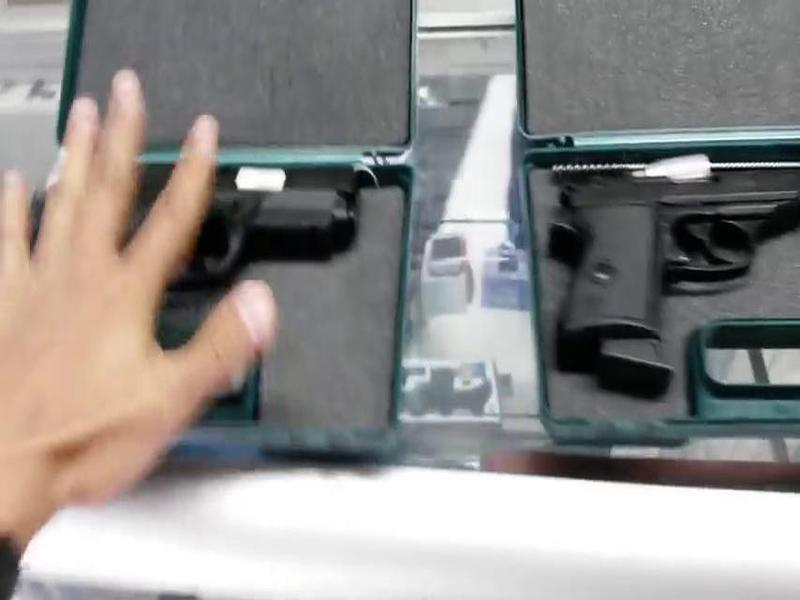Pistola: (518, 133, 800, 386)
